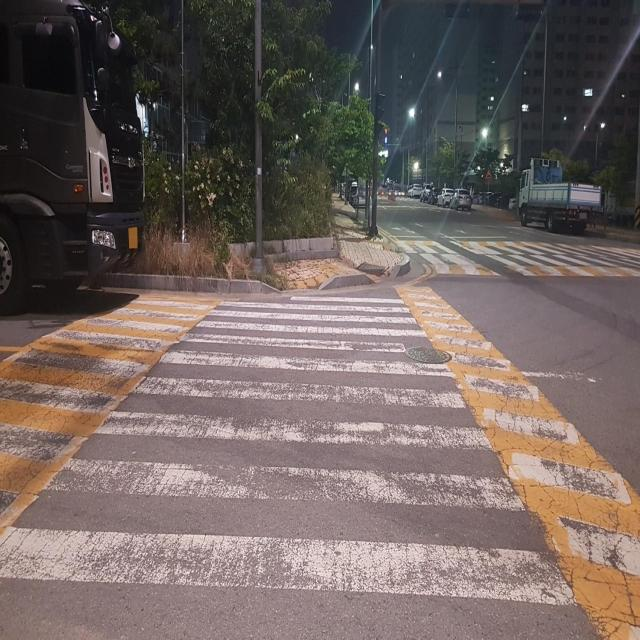횡단보도: (3, 290, 579, 612), (418, 237, 640, 277)
